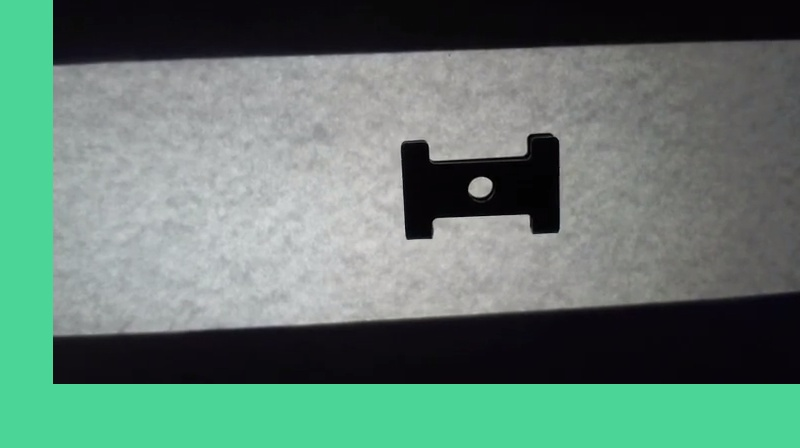O002: (398, 129, 565, 243)
